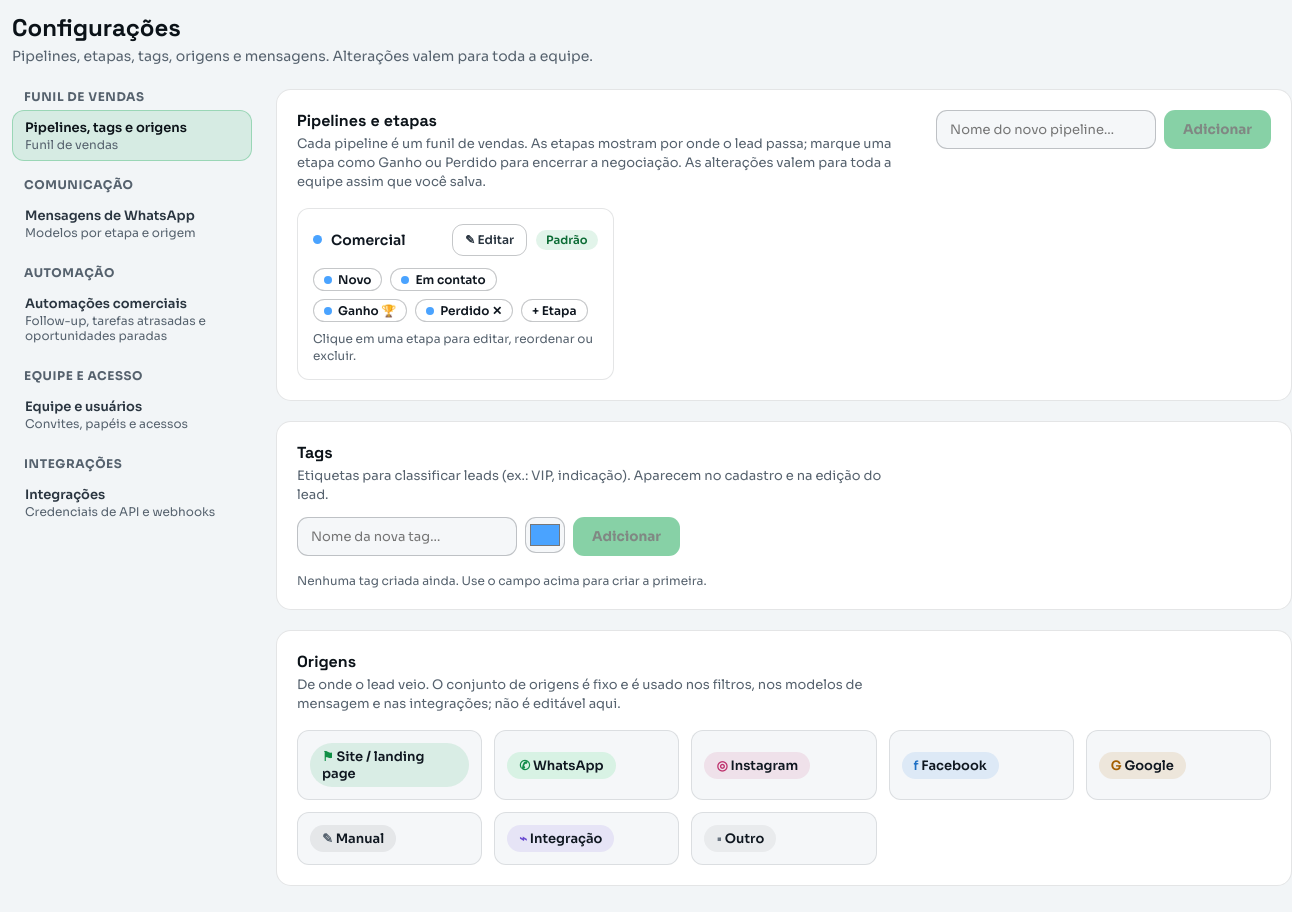
Test: PASSA — comportamento atual correto › [PASSA] Configurações: cores, edição, exclusão e movimentação de etapas têm nome acessível
expect the text "Comercial" is shown: met, box x1=331 y1=230 x2=406 y2=248
expect the button with aria-label "Editar pipeline Comercial" is shown: met, box x1=452 y1=224 x2=527 y2=256
Click the button "Novo".
click(348, 279)  # box x1=313 y1=268 x2=382 y2=290
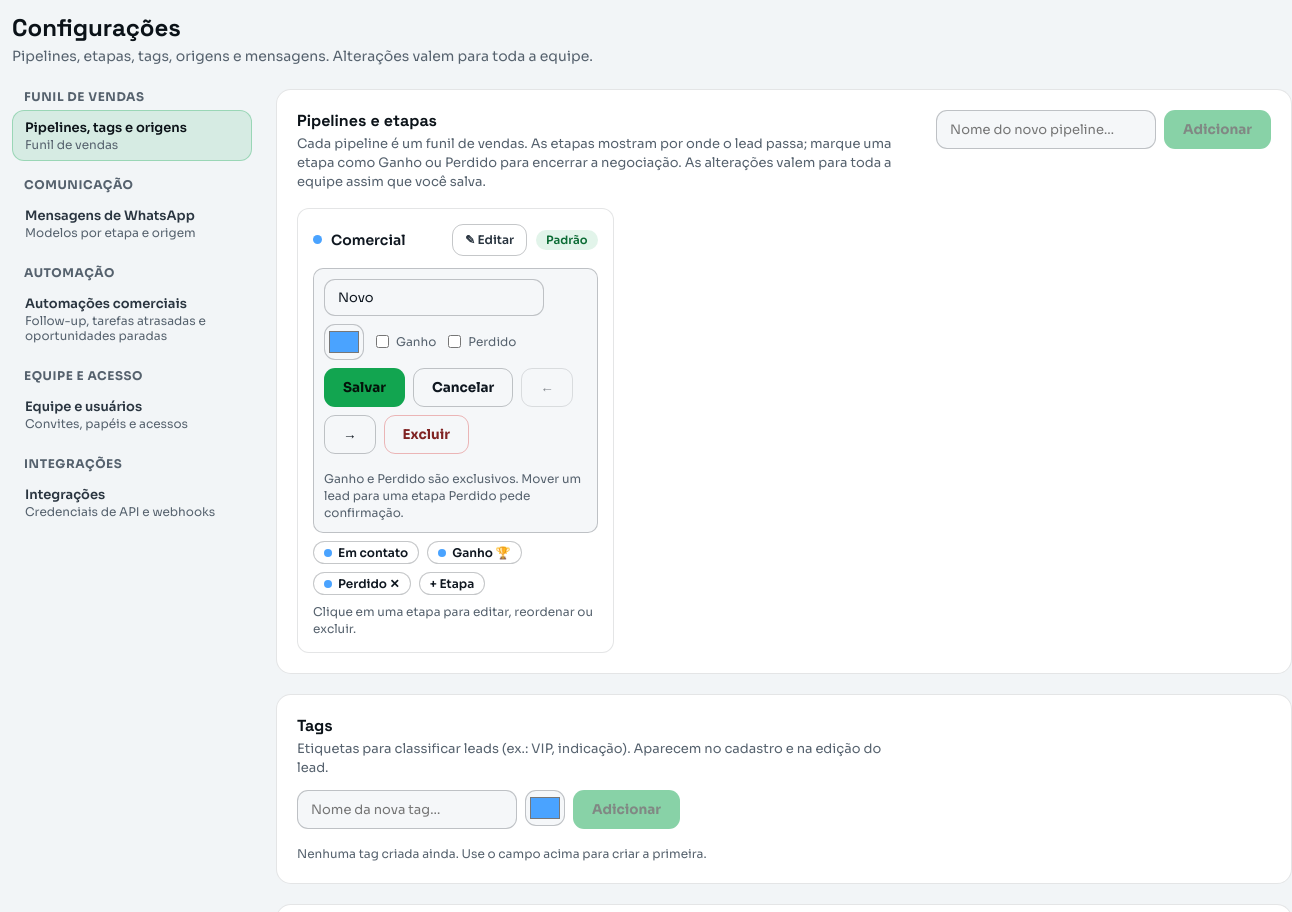
expect the button named "Mover etapa para a direita" is shown: met, box x1=324 y1=414 x2=376 y2=454
